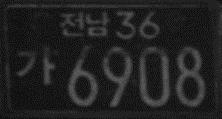0: (137, 44, 170, 108)
3: (114, 10, 135, 40)
6: (66, 39, 99, 110), (139, 9, 161, 38)
8: (175, 46, 206, 106)
9: (102, 43, 131, 108)
가: (17, 45, 55, 87)
전남_O: (57, 11, 109, 37)
